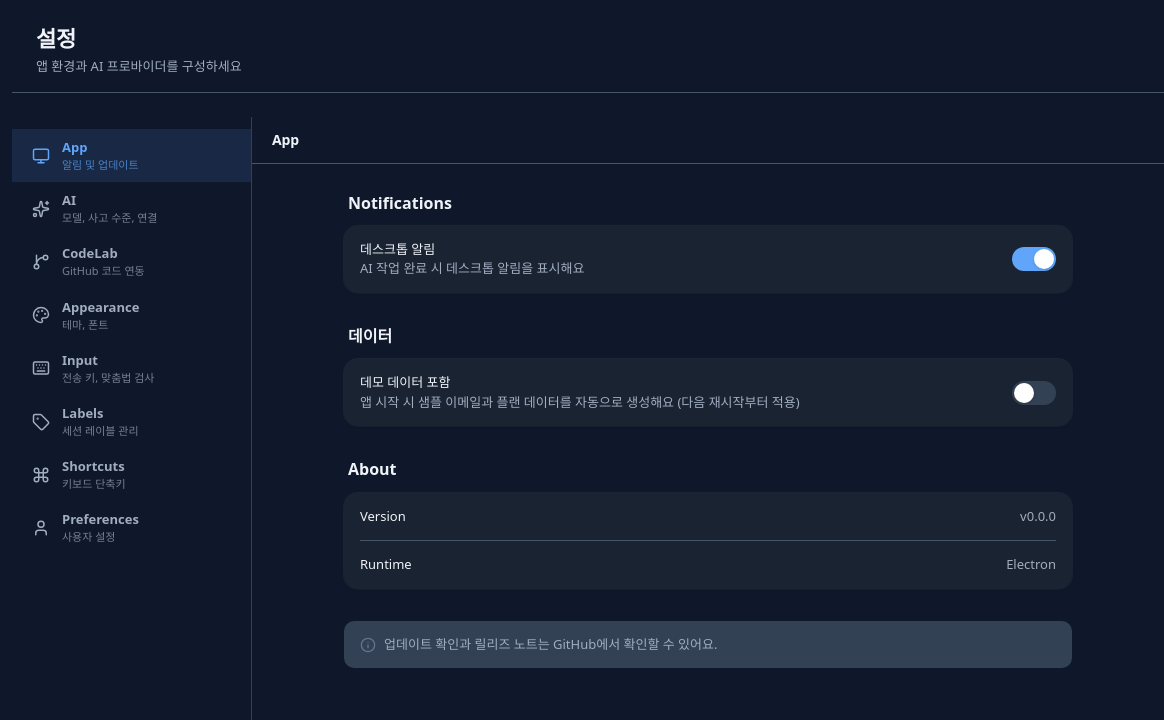
SettingsPage › Input 카테고리에서 전송 키와 맞춤법 옵션을 표시한다
Click the button "Input 전송 키, 맞춤법 검사" at (132, 368), box [12,342,251,395]
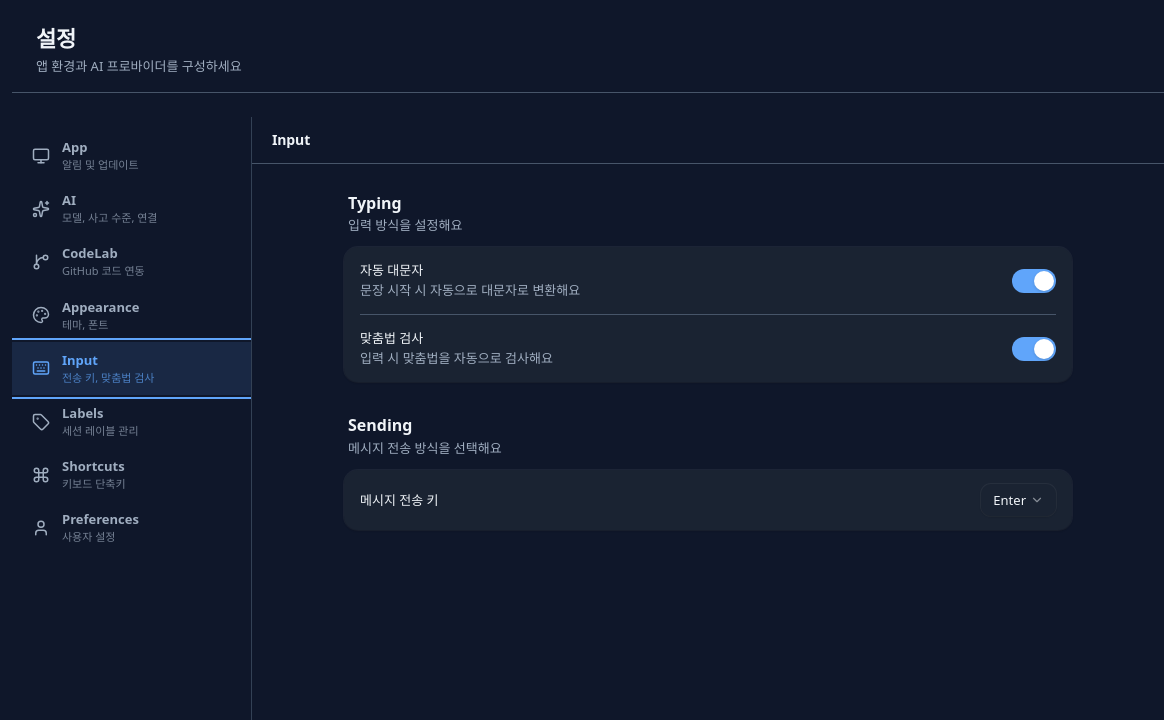
Expected: the heading "Input" is shown, [272,131,310,149]
Expected: the text "자동 대문자" is shown, [360,262,423,280]
Expected: the text "맞춤법 검사" is shown, [360,330,423,348]
